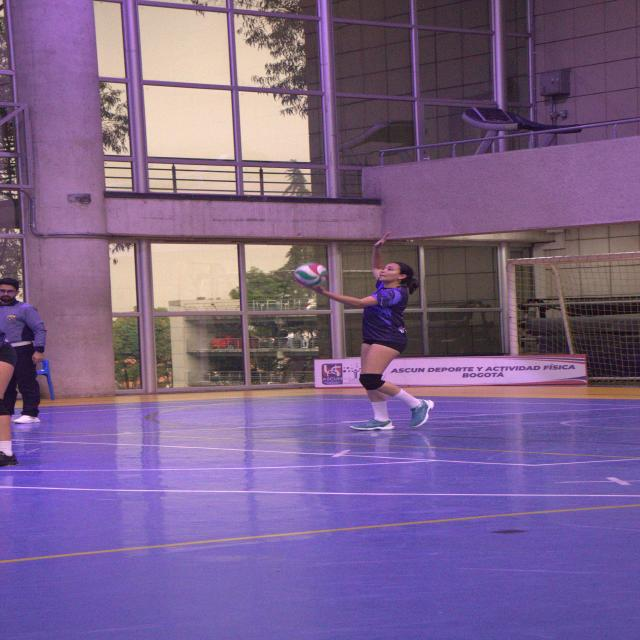volleyball: (292, 262, 328, 286)
